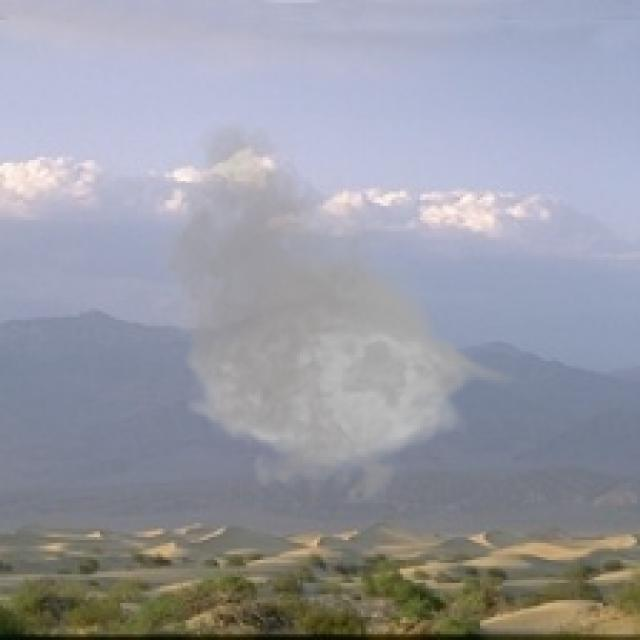smoke: (146, 114, 523, 514)
